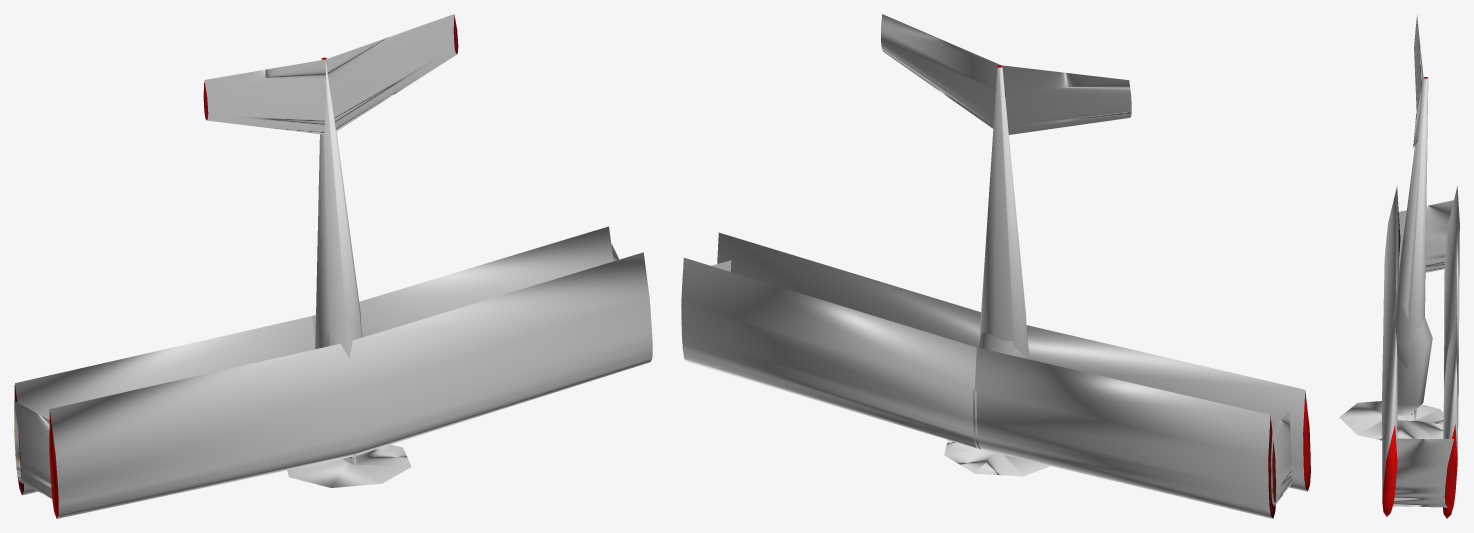
3 views of the same model, side by side, from view 1: azimuth 30°, elevation 25°; view 2: azimuth 150°, elevation 25°; view 3: azimuth 270°, elevation 25° (orthographic). The views are drawn at different scales.
Size of the model in its own units: 1.9 by 1.27 by 0.3848.
